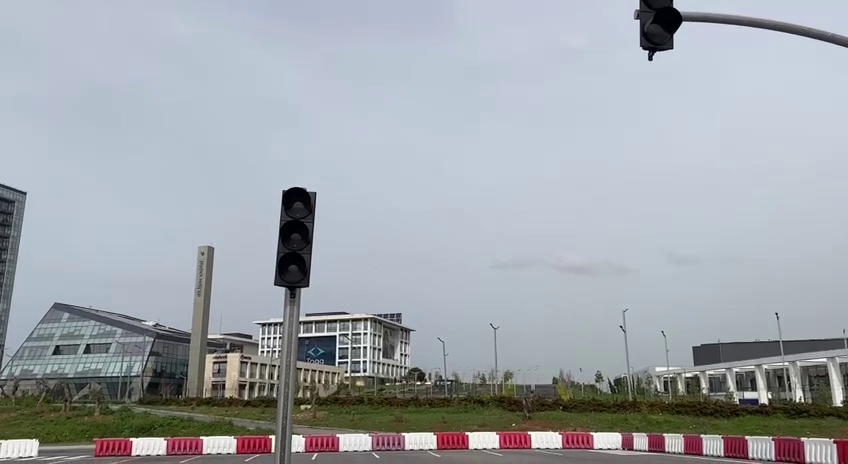trafficLight: (271, 183, 319, 293), (629, 1, 686, 63)
